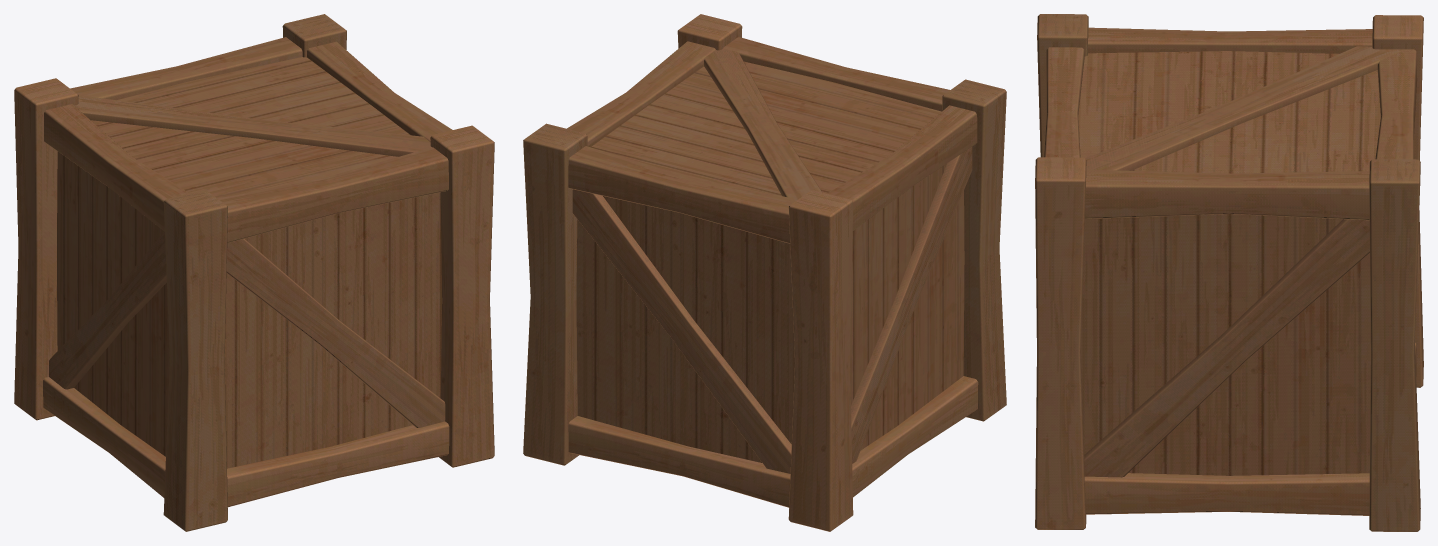
Rendered from BigBox.glb.
The picture shows the model from 3 angles, left to right: view 1: azimuth 30°, elevation 25°; view 2: azimuth 150°, elevation 25°; view 3: azimuth 270°, elevation 25°; orthographic projection. The views are drawn at different scales.
Parts seen in each view (by area): view 1: BigBox1_LOD0; view 2: BigBox1_LOD0; view 3: BigBox1_LOD0.
Part boxes in pixels (x1,y1,x2,y2): BigBox1_LOD0: (14, 14, 494, 531); BigBox1_LOD0: (523, 14, 1006, 531); BigBox1_LOD0: (1035, 14, 1423, 531).
Size of the model in its own units: 1.24 by 1.2 by 1.21.
Materials: 1 (1 with a texture image).
